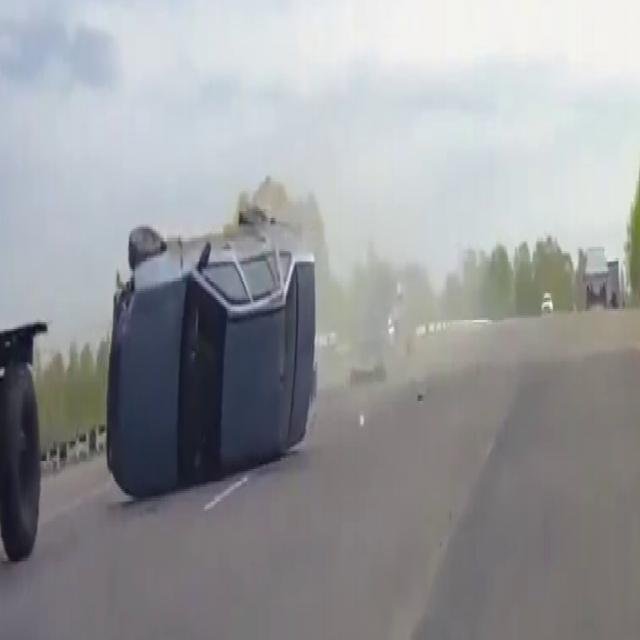accident: (82, 164, 331, 494)
